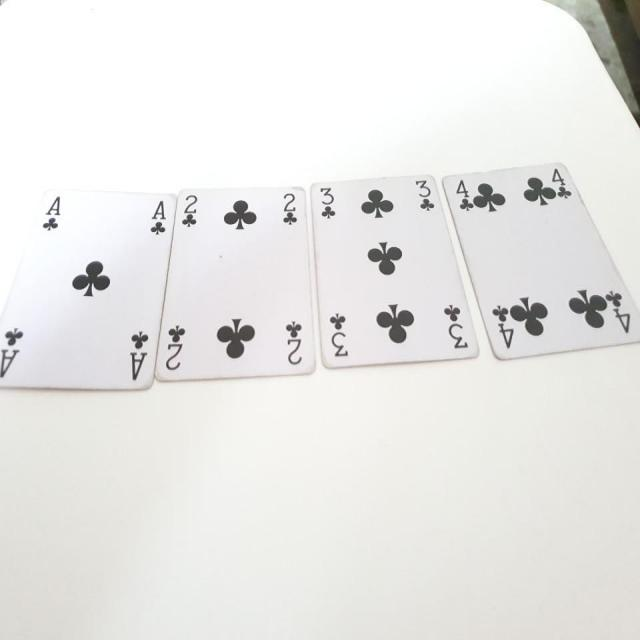2 Trefoils: (155, 186, 318, 381)
3 Trefoils: (309, 173, 482, 370)
4 Trefoils: (441, 160, 640, 362)
A Trefoils: (1, 185, 177, 390)
